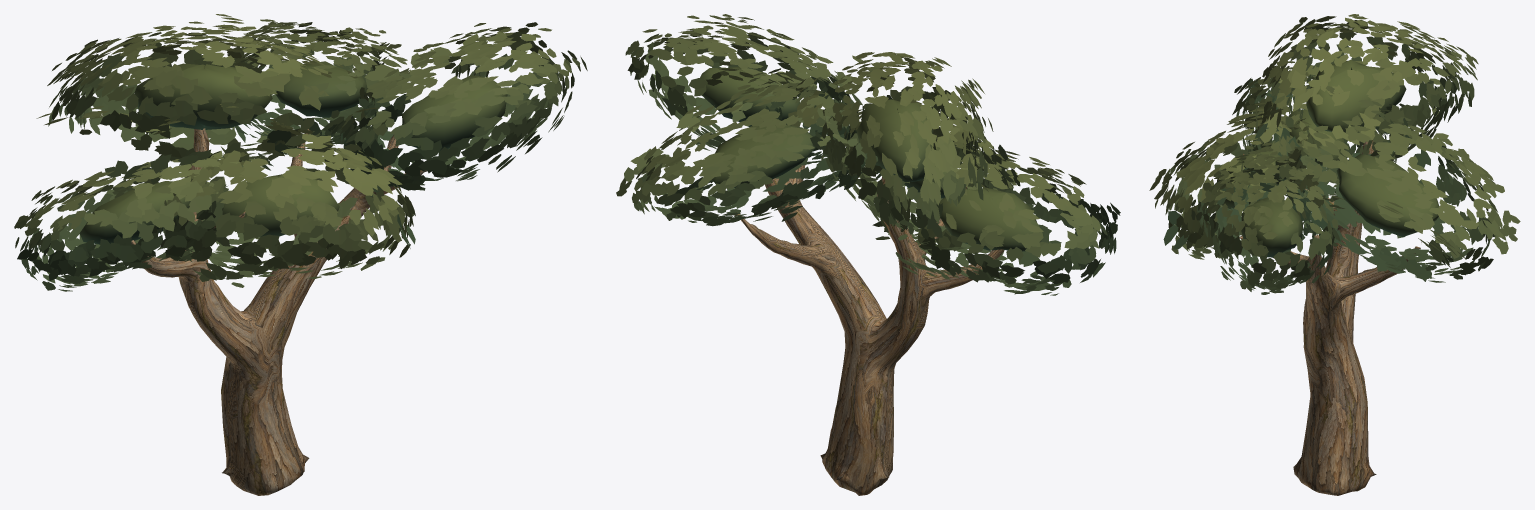
The model's file is valley-grove-spread.glb.
The picture shows the model from 3 angles, left to right: view 1: azimuth 30°, elevation 25°; view 2: azimuth 150°, elevation 25°; view 3: azimuth 270°, elevation 25°; orthographic projection. The views are drawn at different scales.
Parts seen in each view (by area): view 1: grove-crown-foliage, grove-living-wood; view 2: grove-crown-foliage, grove-living-wood; view 3: grove-crown-foliage, grove-living-wood.
Part boxes in pixels (bbox=[...]): grove-crown-foliage: bbox=[14, 14, 587, 291]; grove-living-wood: bbox=[131, 116, 427, 495]; grove-crown-foliage: bbox=[616, 14, 1120, 295]; grove-living-wood: bbox=[727, 165, 1004, 495]; grove-crown-foliage: bbox=[1149, 14, 1520, 294]; grove-living-wood: bbox=[1239, 140, 1421, 495].
Bounding box in the file's own units: 8.8 × 7.21 × 5.52.
Materials: 2 (1 with a texture image).
